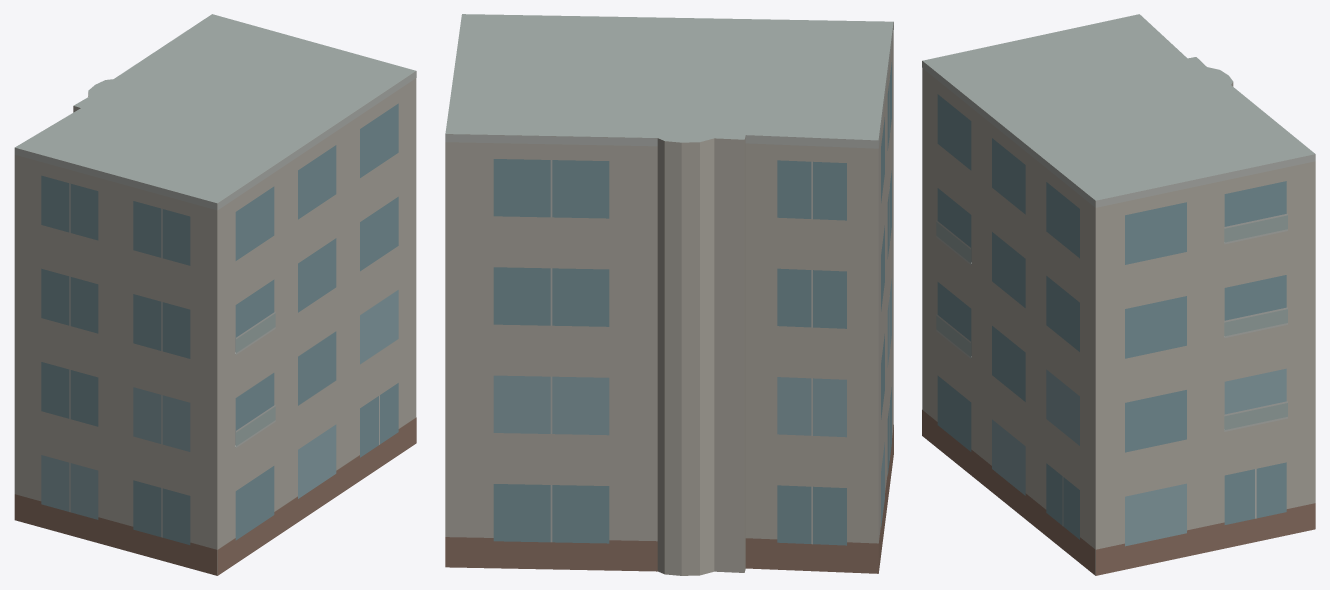
Rendered from survey-upis-33002041.glb.
The picture shows the model from 3 angles, left to right: view 1: azimuth 30°, elevation 25°; view 2: azimuth 150°, elevation 25°; view 3: azimuth 270°, elevation 25°; orthographic projection. The views are drawn at different scales.
Visible parts, largest first — view 1: survey-upis-33002041.tmp; view 2: survey-upis-33002041.tmp; view 3: survey-upis-33002041.tmp.
Part boxes in pixels (left/top/right/bottom): survey-upis-33002041.tmp: left=14, top=14, right=416, bottom=575; survey-upis-33002041.tmp: left=445, top=14, right=893, bottom=575; survey-upis-33002041.tmp: left=922, top=14, right=1315, bottom=575.
Bounding box in the file's own units: 13.67 × 12.8 × 12.18.
